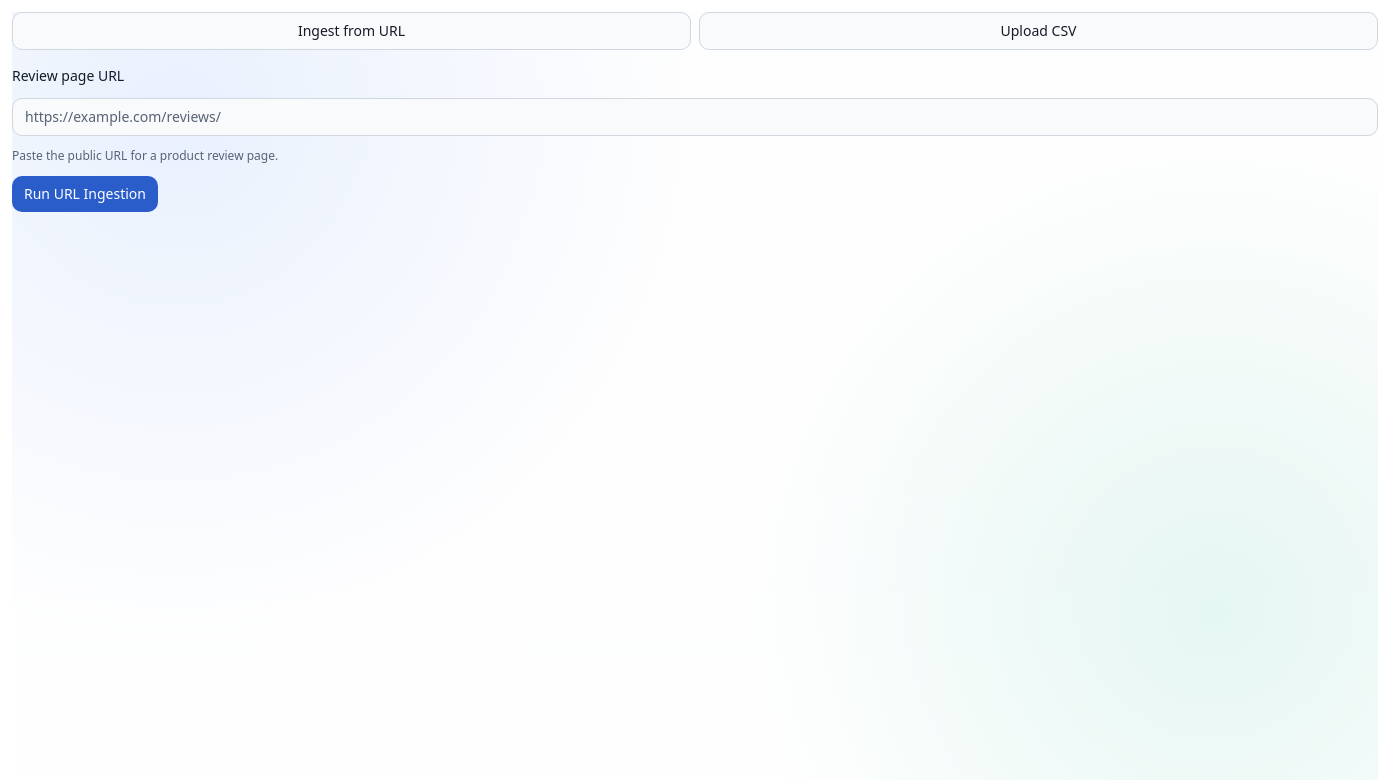
Scenario: IngestionPanel › shows validation error for invalid URL submission
Type "not-a-url" into the field labelled "Review page URL".
click(695, 117); type("not-a-url")  # box [12,98,1378,136]
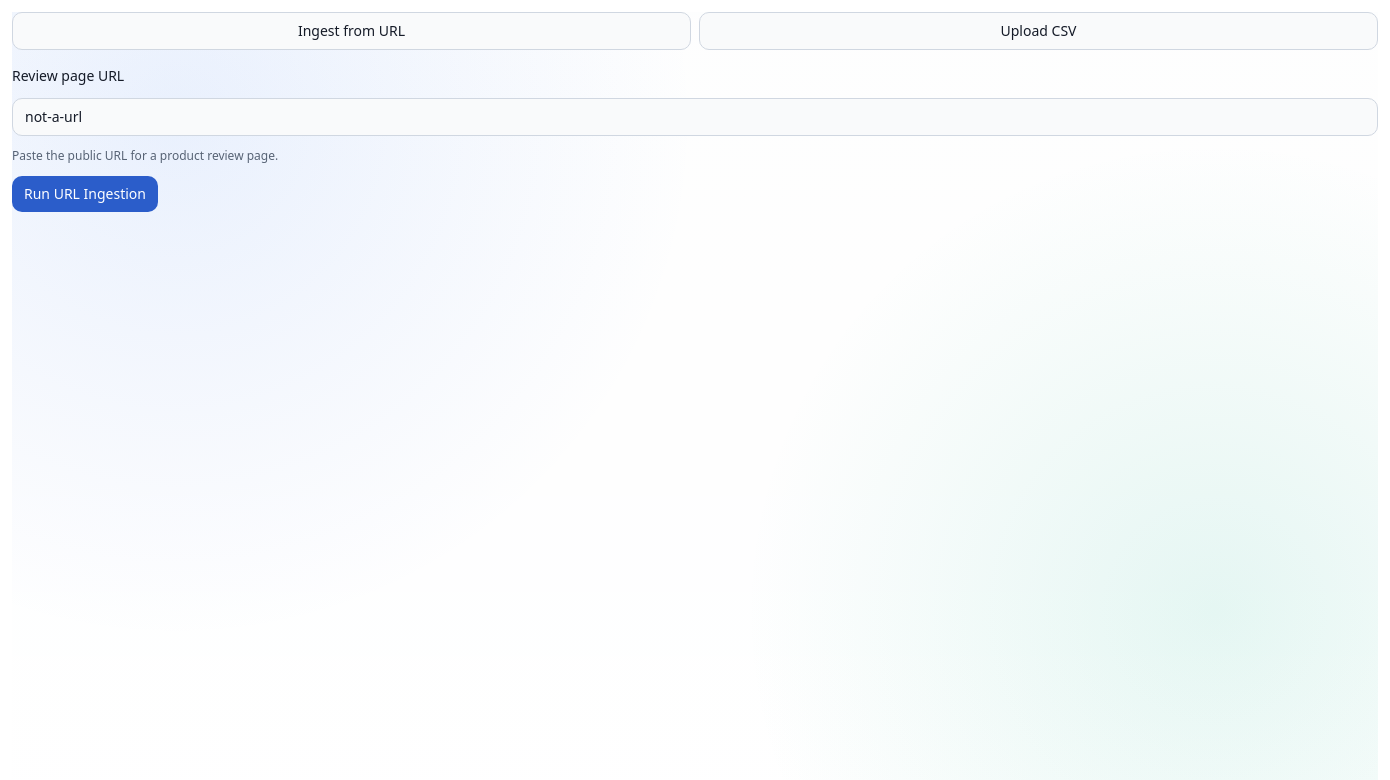
Click the button "Run URL Ingestion".
click(85, 194)  # box [12,176,158,212]
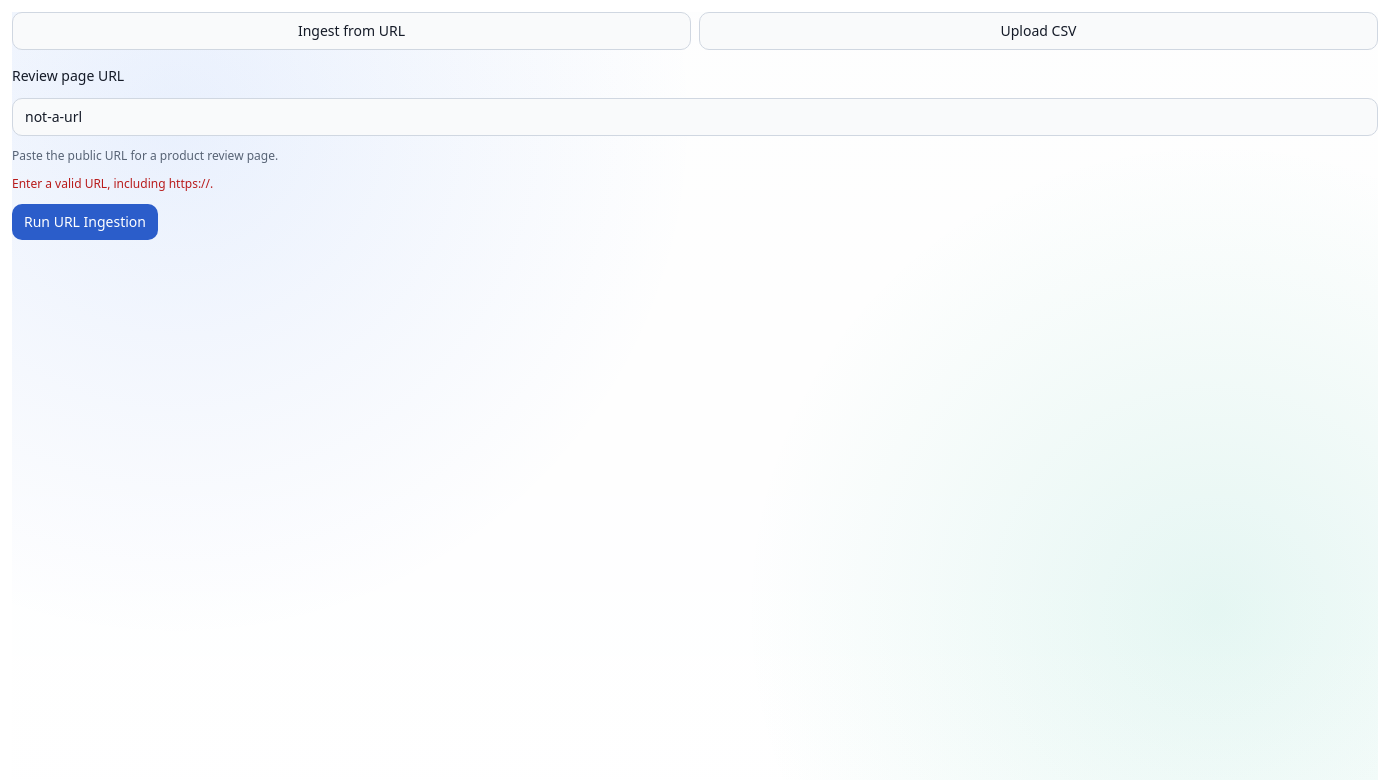
Expected: the text "Enter a valid URL, including https://." is shown, [12,175,213,192]
